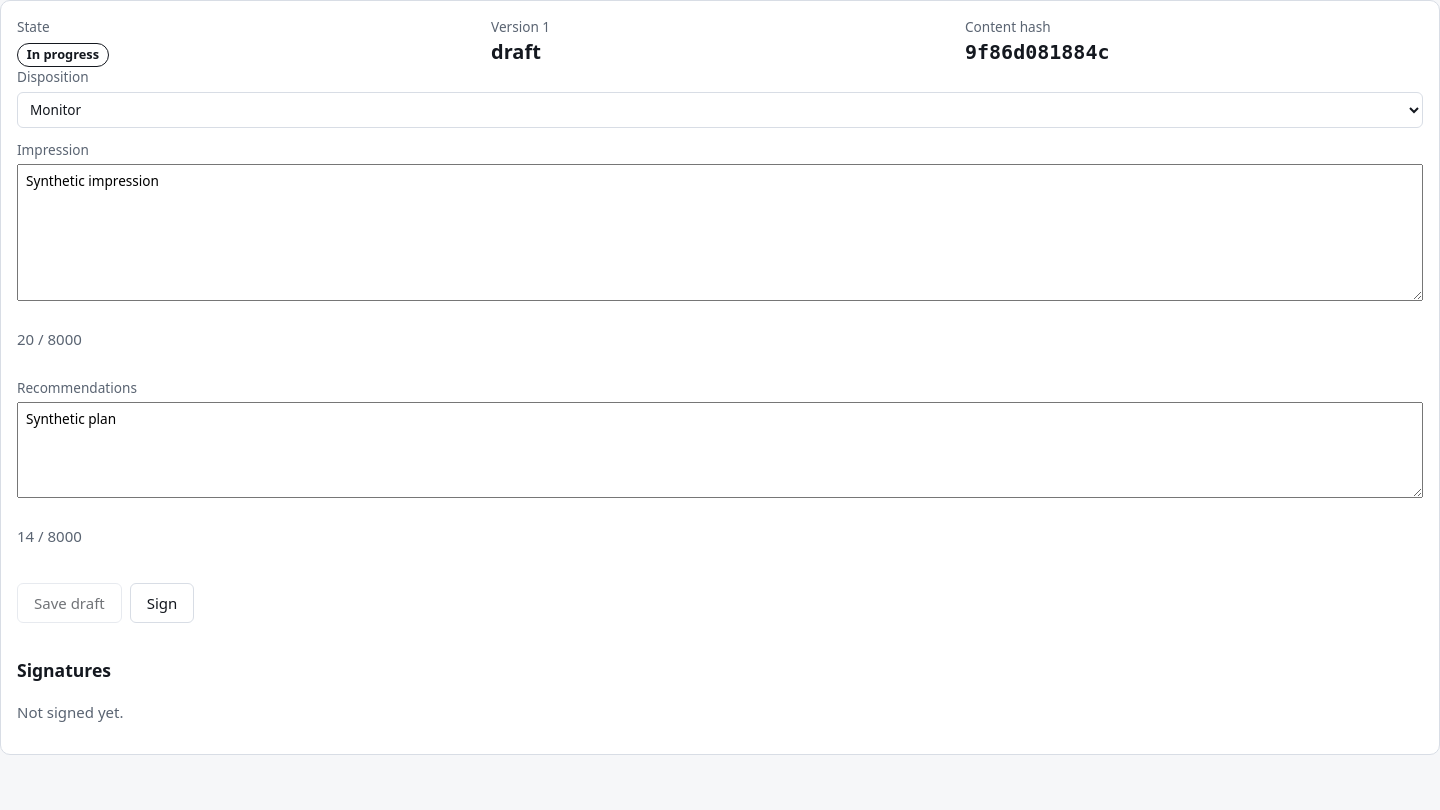
Test case: ReviewPanel › opens the sign dialog from a saved draft and ends Final after a successful signature
This screenshot has width=1440, height=810.
Click the button "Sign".
click(162, 603)  # box [130,583,194,623]
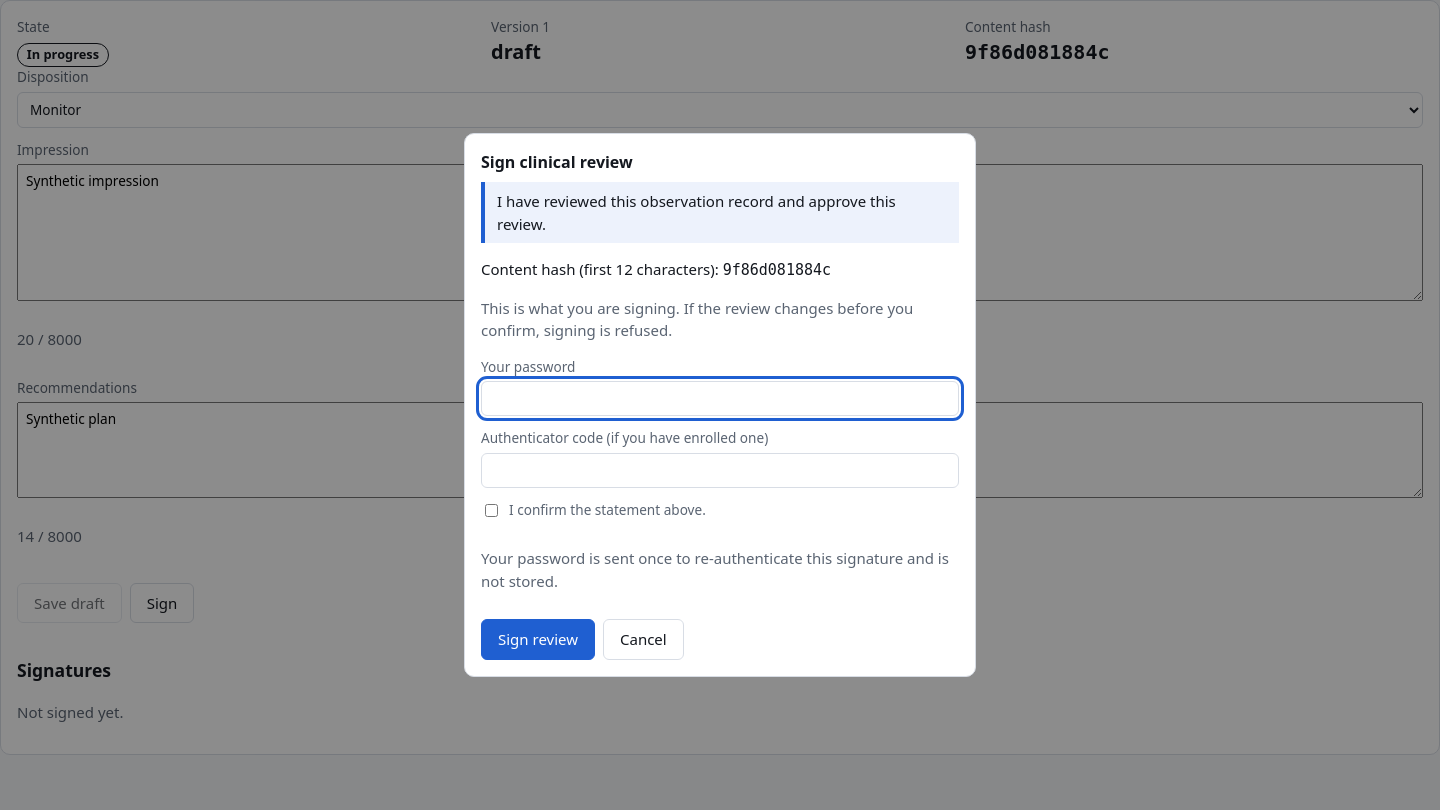
Type "pw" into the password field labelled "Your password".
click(720, 399); type("pw")  # box [481,381,959,416]
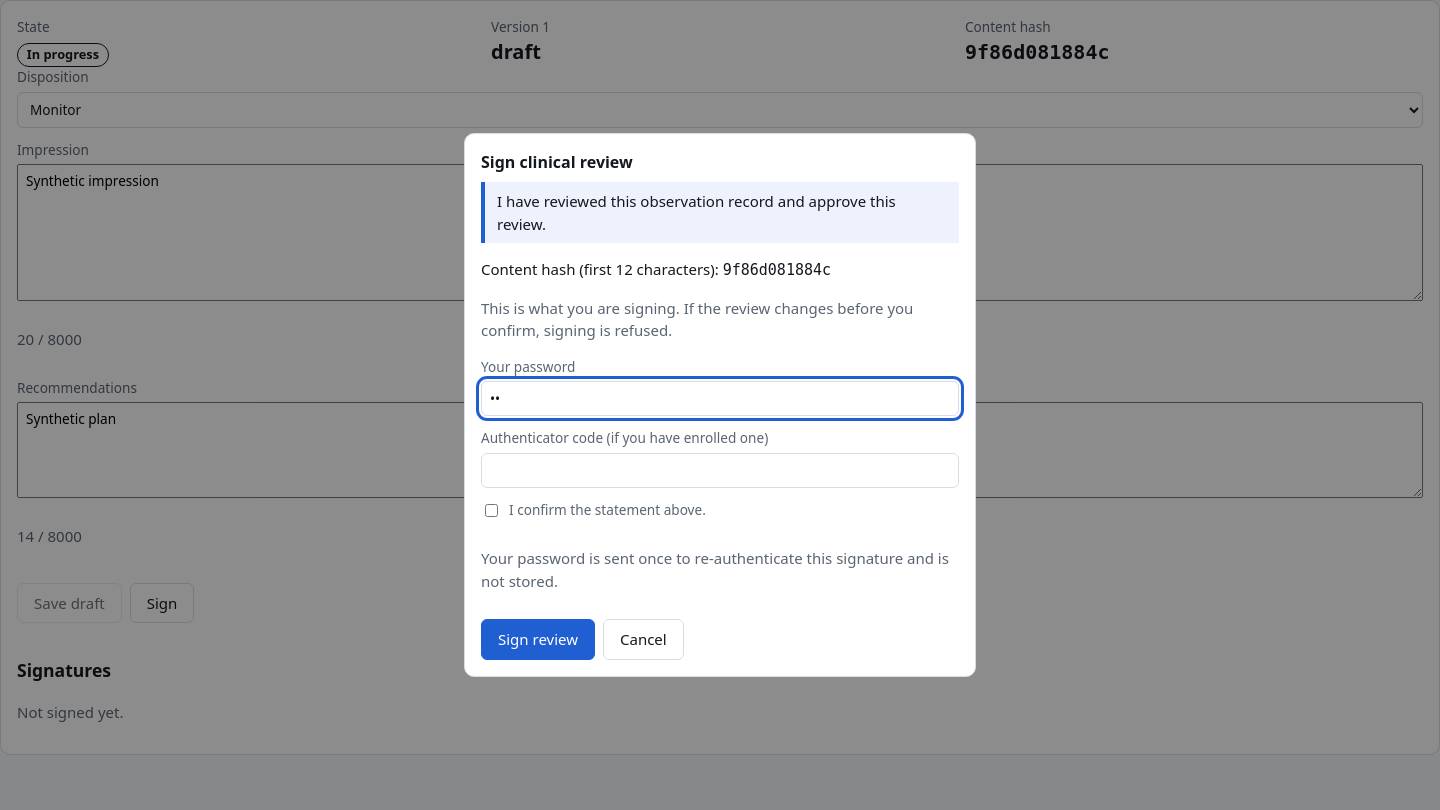
Click the checkbox labelled "I confirm the statement above.".
click(492, 510)  # box [485,504,498,516]
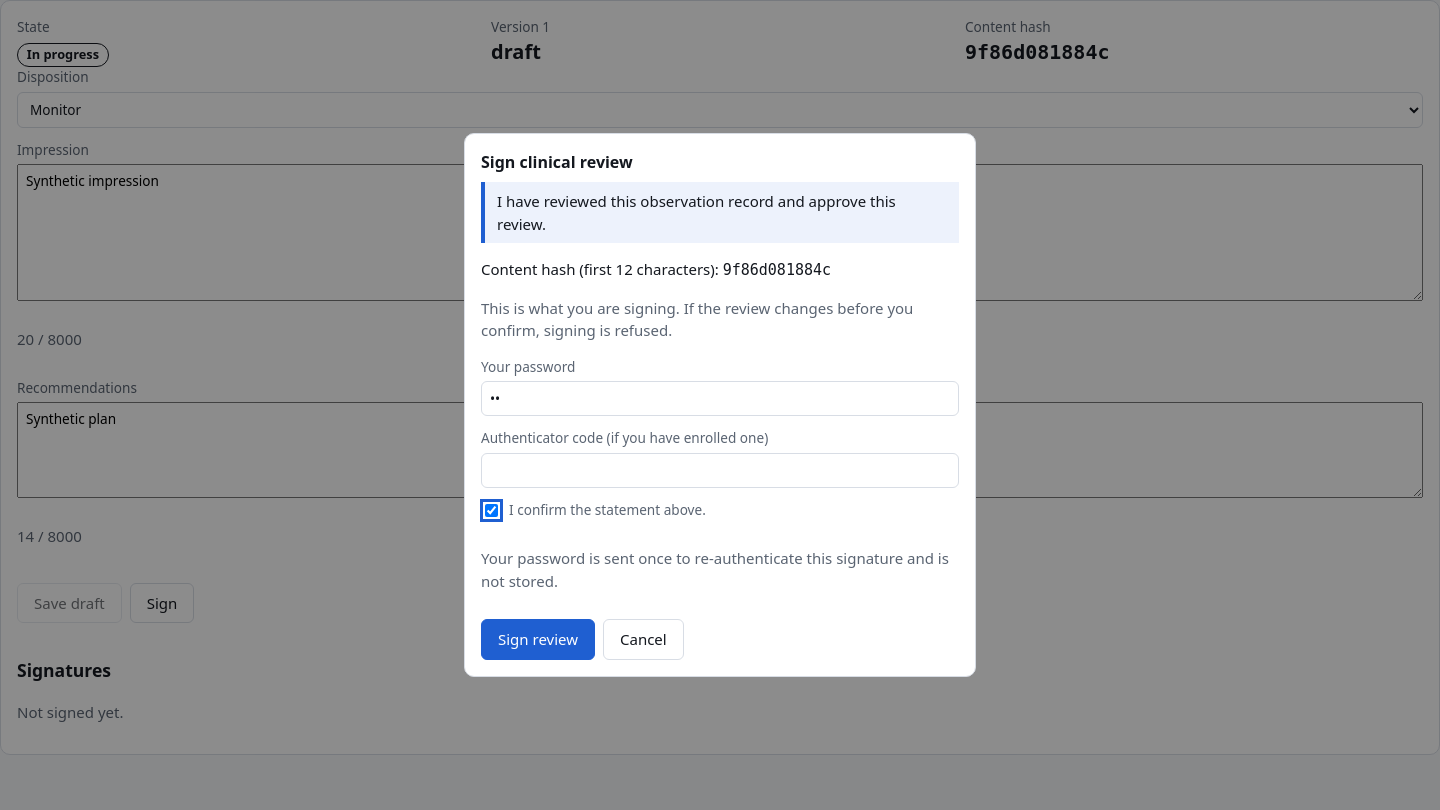
Click the button "Sign review".
click(538, 640)  # box [481,619,595,660]
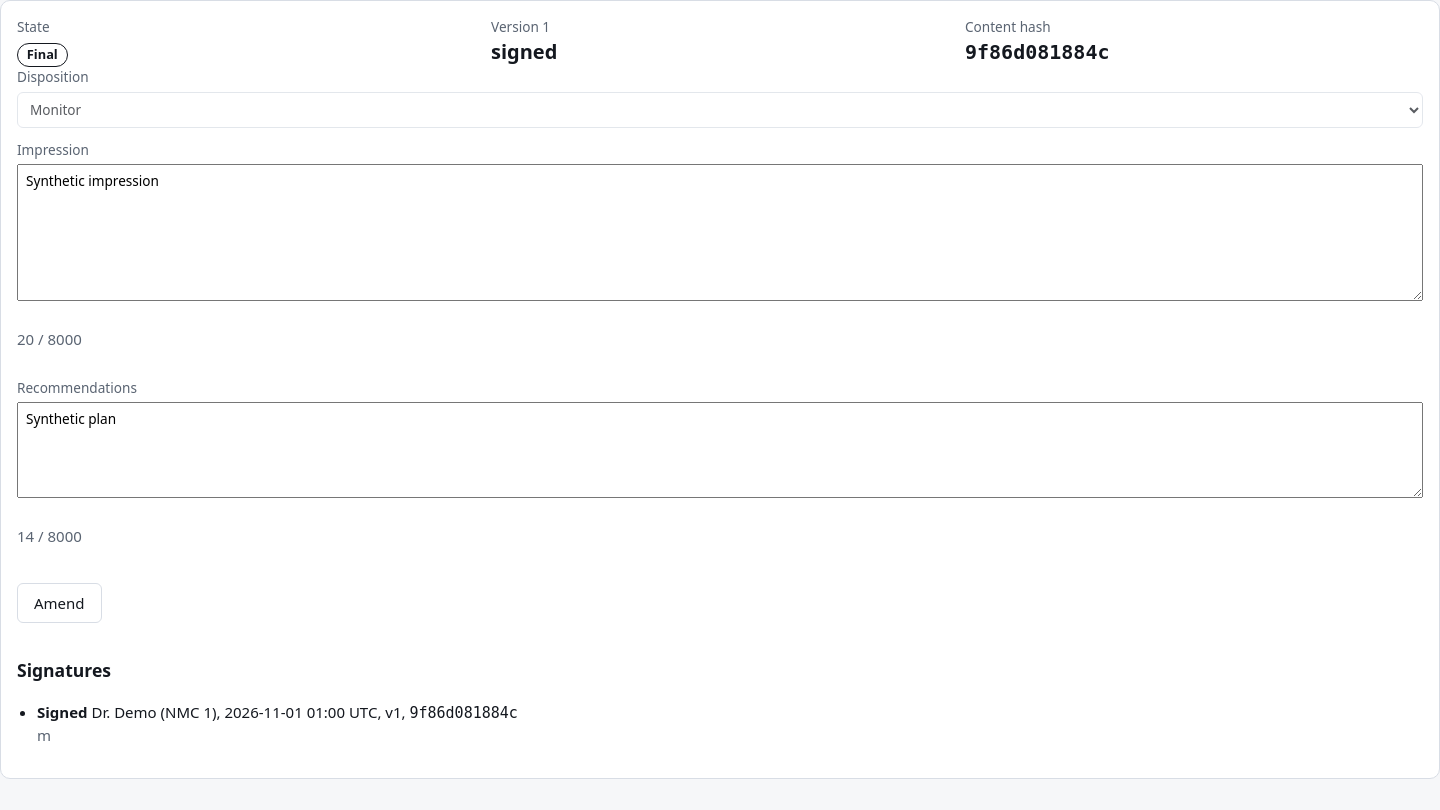
Expected: the text with test id "review-state" reads "Final", [27,45,58,63]
Expected: the dialog is gone
Expected: the list item "Dr. Demo (NMC 1)" is shown, [92,702,216,722]
